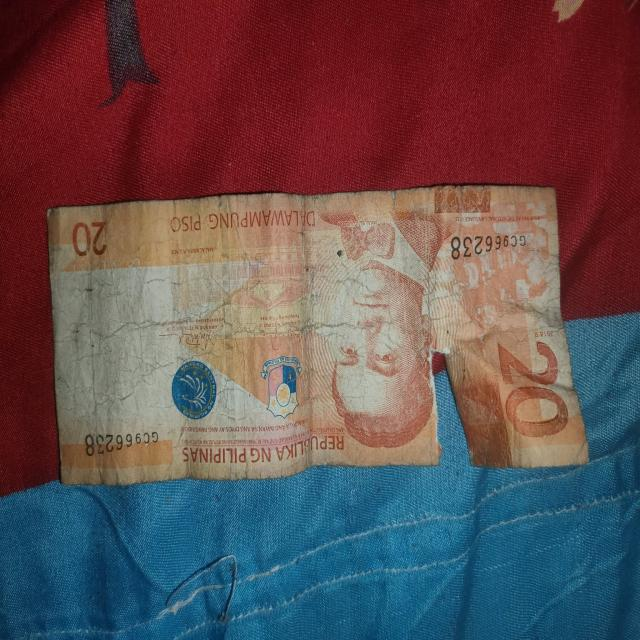broken: (43, 181, 599, 474)
torn: (418, 334, 494, 484)
